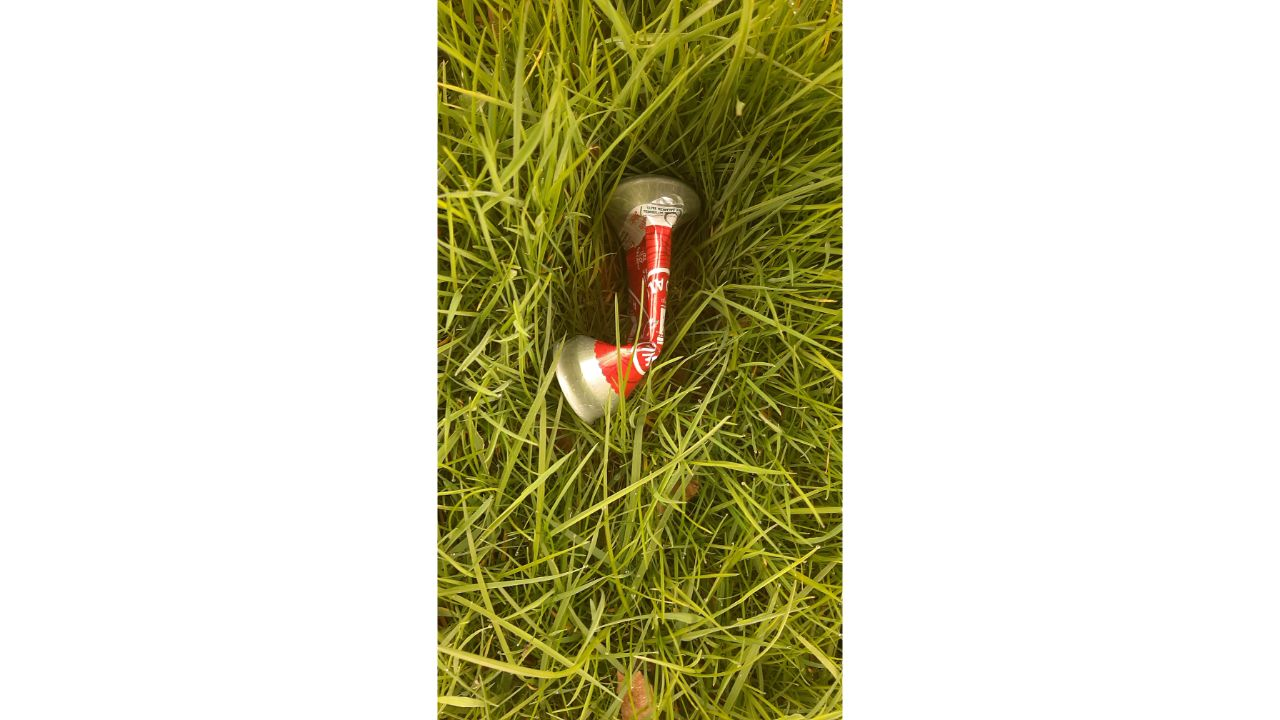Can: (547, 161, 720, 435)
